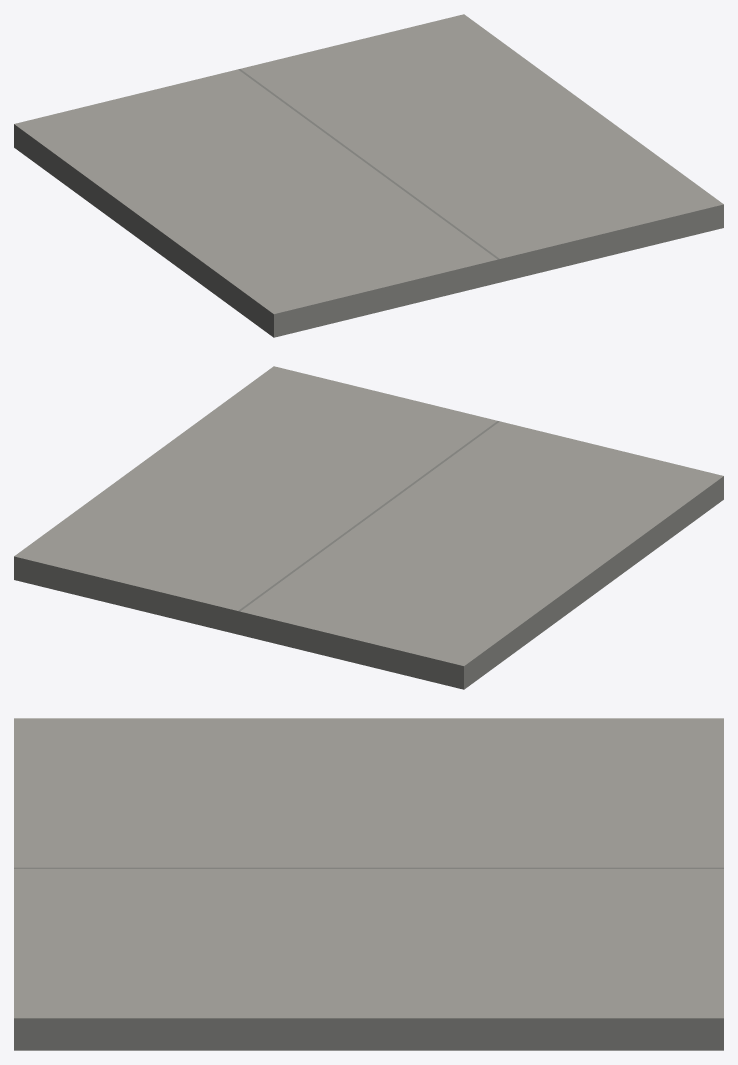
File: SM_Workshop_Floor_Concrete_Sealed_01.fbx
3 renders of one model, top to bottom at view 1: azimuth 30°, elevation 25°; view 2: azimuth 150°, elevation 25°; view 3: azimuth 270°, elevation 25°, orthographic. The views are drawn at different scales.
Parts seen in each view (by area): view 1: SM_Workshop_Floor_Concrete_Sealed_01; view 2: SM_Workshop_Floor_Concrete_Sealed_01; view 3: SM_Workshop_Floor_Concrete_Sealed_01.
Boxes of the visible parts, x1=… form: SM_Workshop_Floor_Concrete_Sealed_01: x1=14, y1=14, x2=723, y2=337; SM_Workshop_Floor_Concrete_Sealed_01: x1=14, y1=366, x2=723, y2=689; SM_Workshop_Floor_Concrete_Sealed_01: x1=14, y1=718, x2=723, y2=1050.
Size of what is drawn, in the model's own units: 2 by 0.1 by 2.
1 material, 1 textured.
